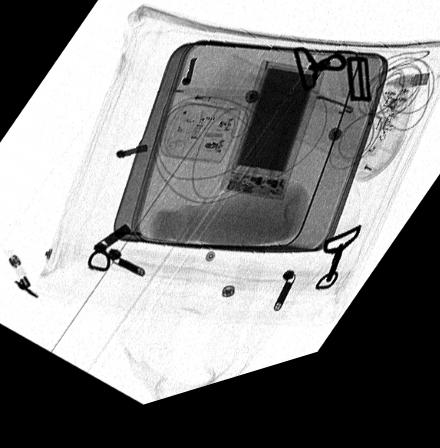Powerbank: (218, 76, 326, 217)
